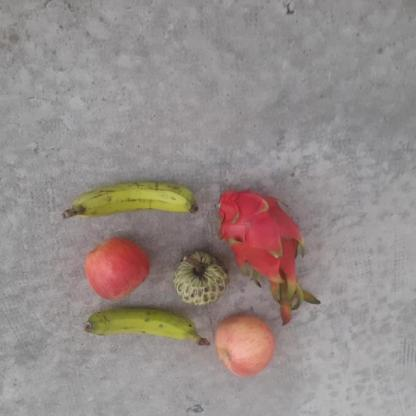annona: (169, 248, 235, 313)
apple: (81, 226, 156, 301), (210, 310, 282, 380)
banana: (66, 172, 200, 224), (83, 304, 207, 352)
pitaya: (206, 185, 305, 279)
